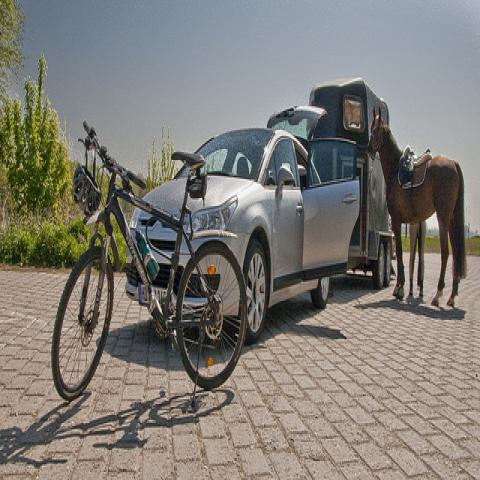car: (142, 128, 361, 348)
